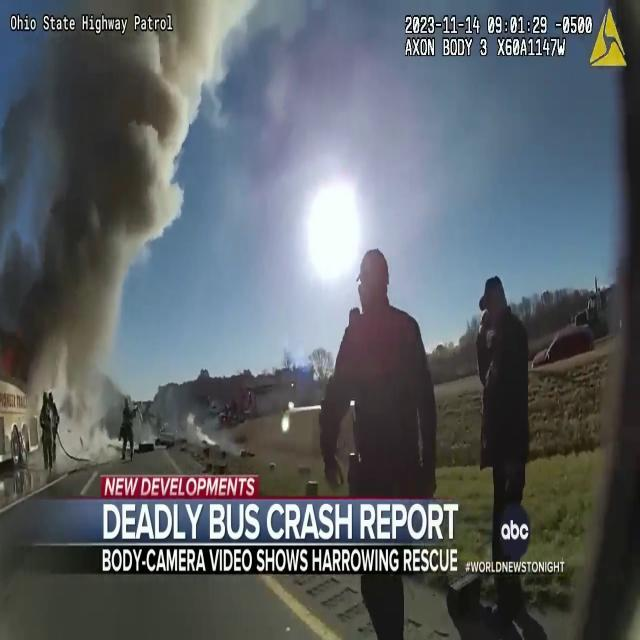Smoke: (0, 0, 293, 356)
